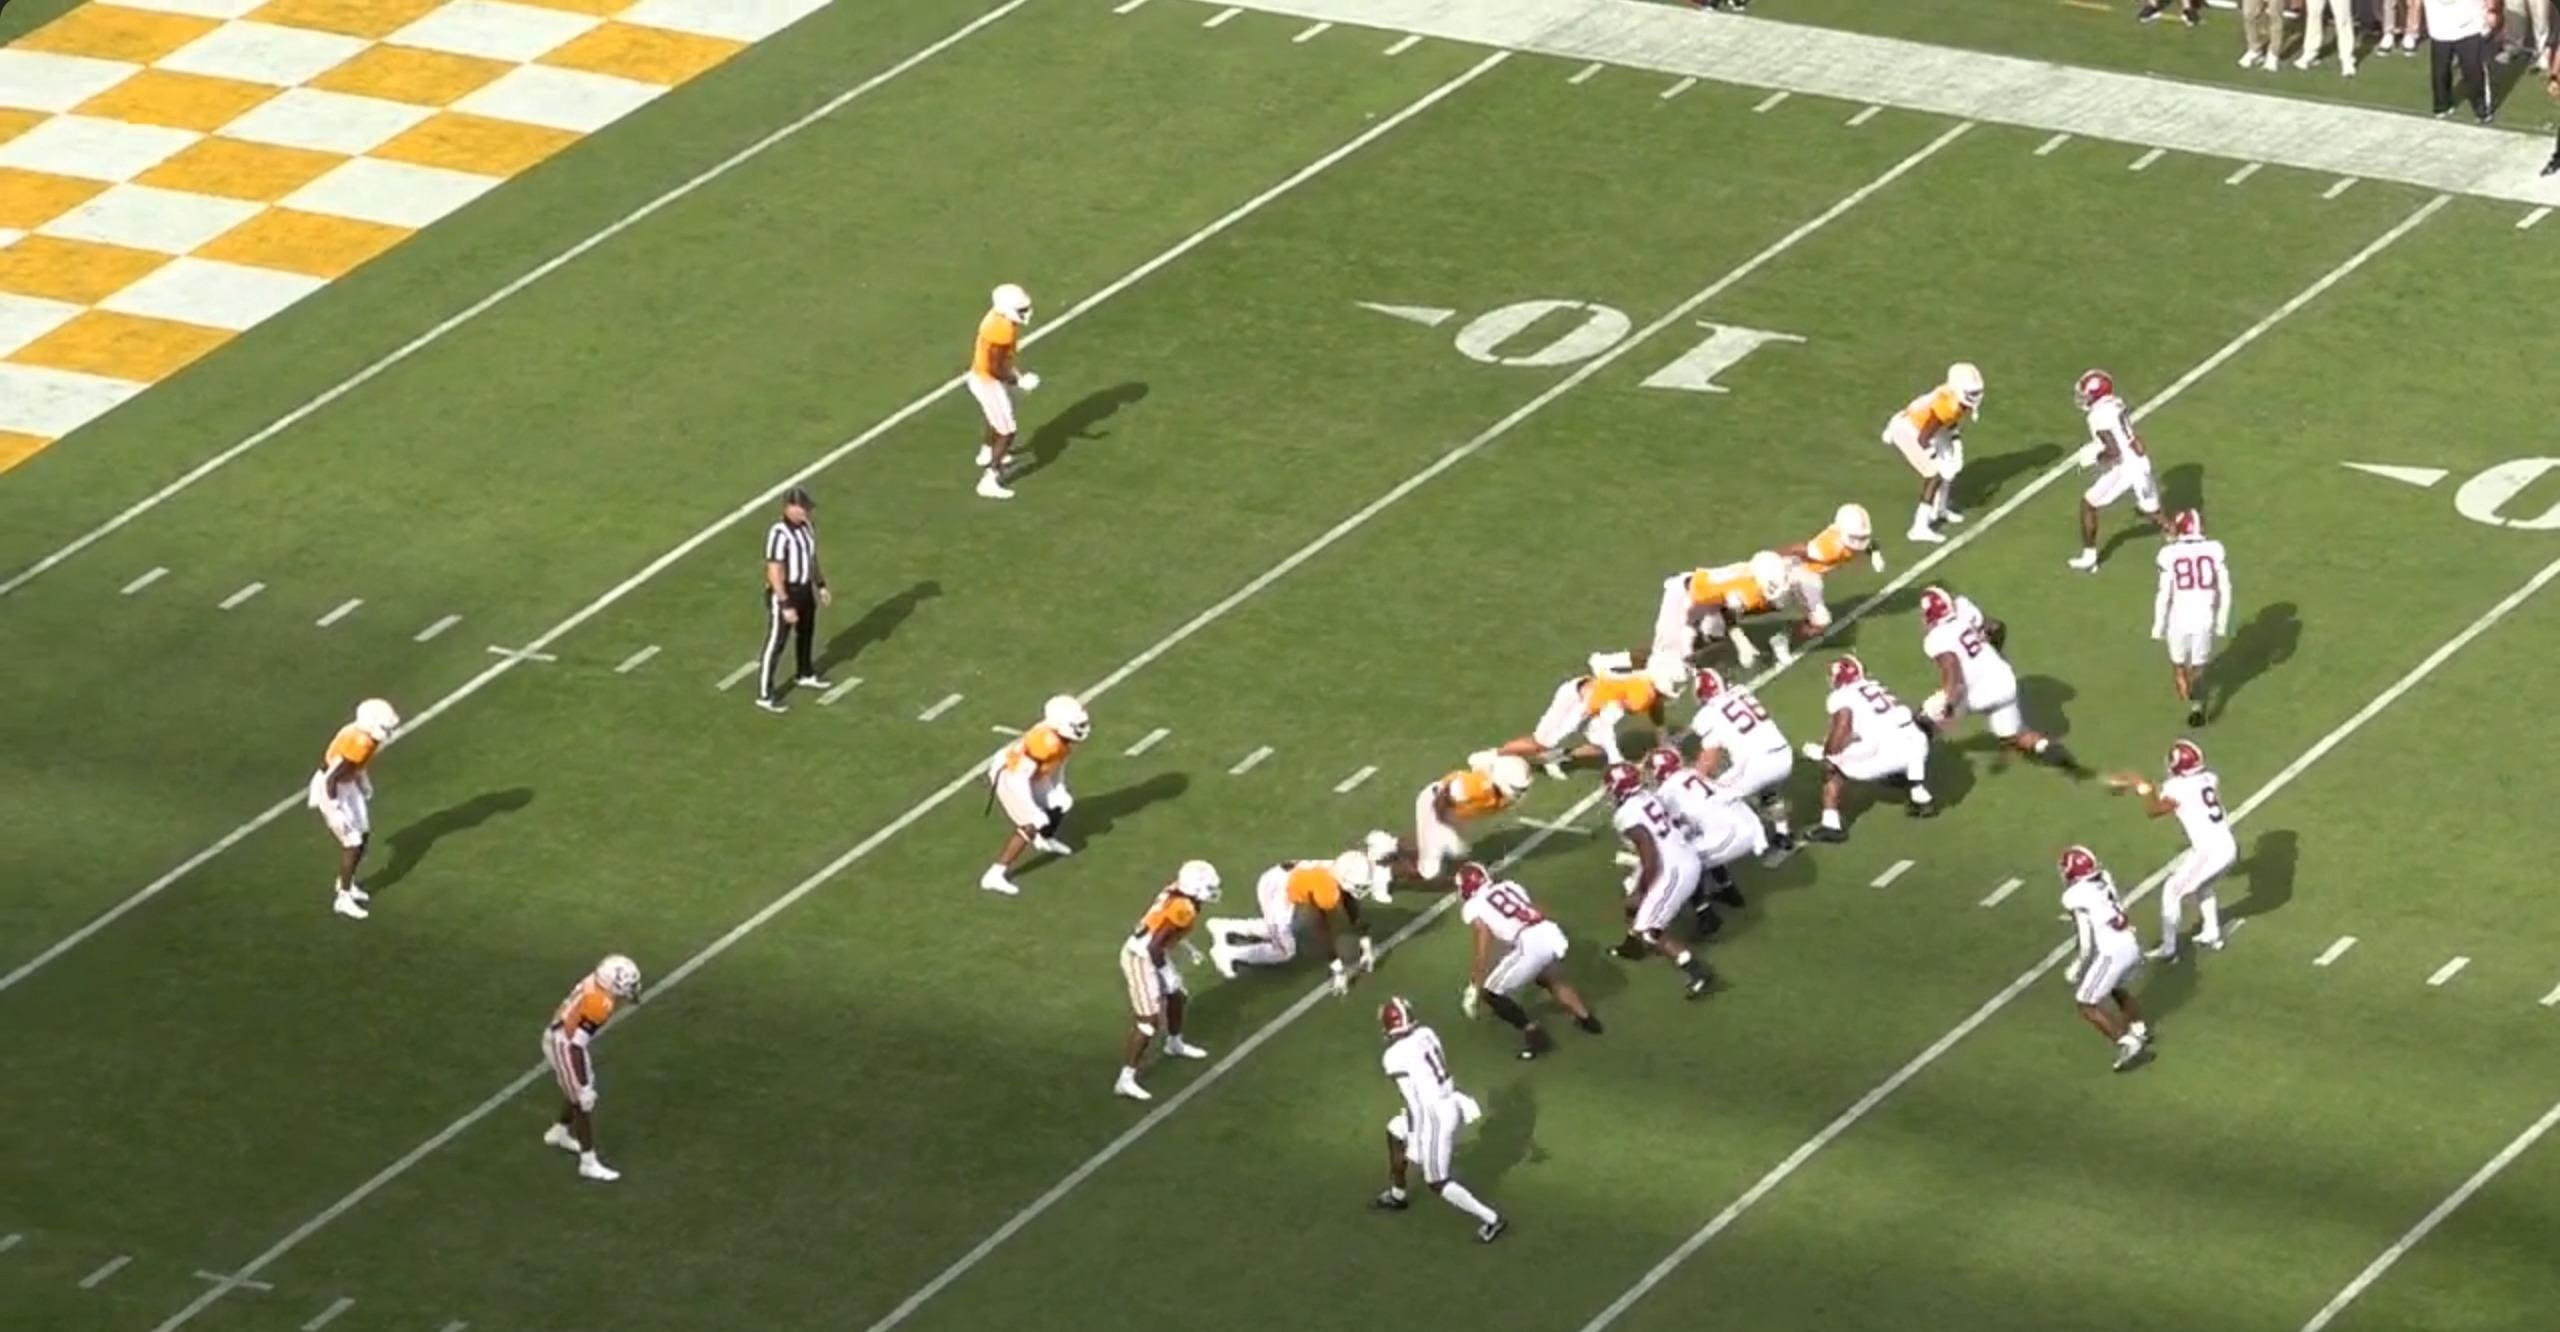defense: (1481, 647, 1686, 804), (1102, 856, 1219, 1110), (1216, 834, 1400, 993), (1365, 745, 1536, 904), (527, 949, 638, 1190), (980, 696, 1101, 905), (1735, 496, 1876, 665), (300, 691, 401, 924), (957, 271, 1055, 509), (1634, 547, 1788, 682), (1890, 357, 1996, 552)
oline: (1915, 581, 2098, 797), (1592, 772, 1717, 1010), (1807, 648, 1949, 848), (1680, 663, 1803, 867), (1625, 740, 1759, 926)
qb: (2128, 736, 2233, 966)
ref: (742, 491, 831, 719)
skill: (1373, 1000, 1520, 1246), (1444, 860, 1605, 1075), (2052, 836, 2160, 1071), (2057, 369, 2172, 586), (2155, 515, 2247, 740)
